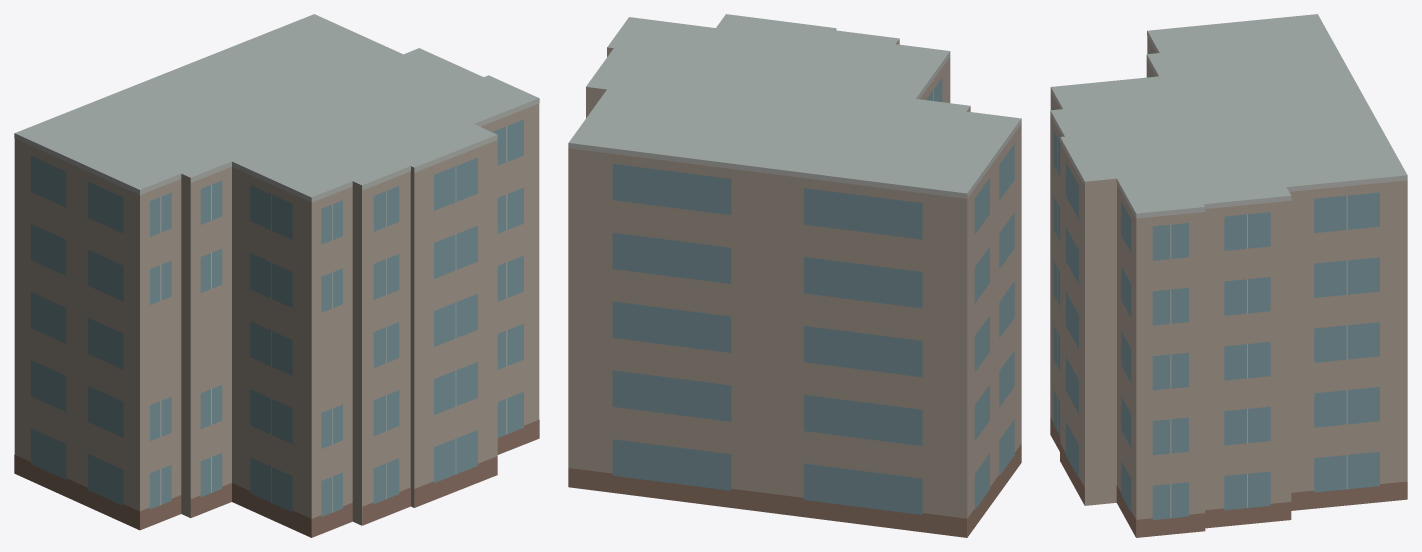
File: survey-upis-32929856.glb
The picture shows the model from 3 angles, left to right: view 1: azimuth 30°, elevation 25°; view 2: azimuth 150°, elevation 25°; view 3: azimuth 270°, elevation 25°; orthographic projection. The views are drawn at different scales.
Visible parts, largest first — view 1: survey-upis-32929856.tmp; view 2: survey-upis-32929856.tmp; view 3: survey-upis-32929856.tmp.
Boxes of the visible parts, x1=… form: survey-upis-32929856.tmp: x1=14, y1=14, x2=539, y2=537; survey-upis-32929856.tmp: x1=568, y1=14, x2=1021, y2=537; survey-upis-32929856.tmp: x1=1050, y1=14, x2=1407, y2=537.
Size of the model in its own units: 21.01 by 15.9 by 15.89.
